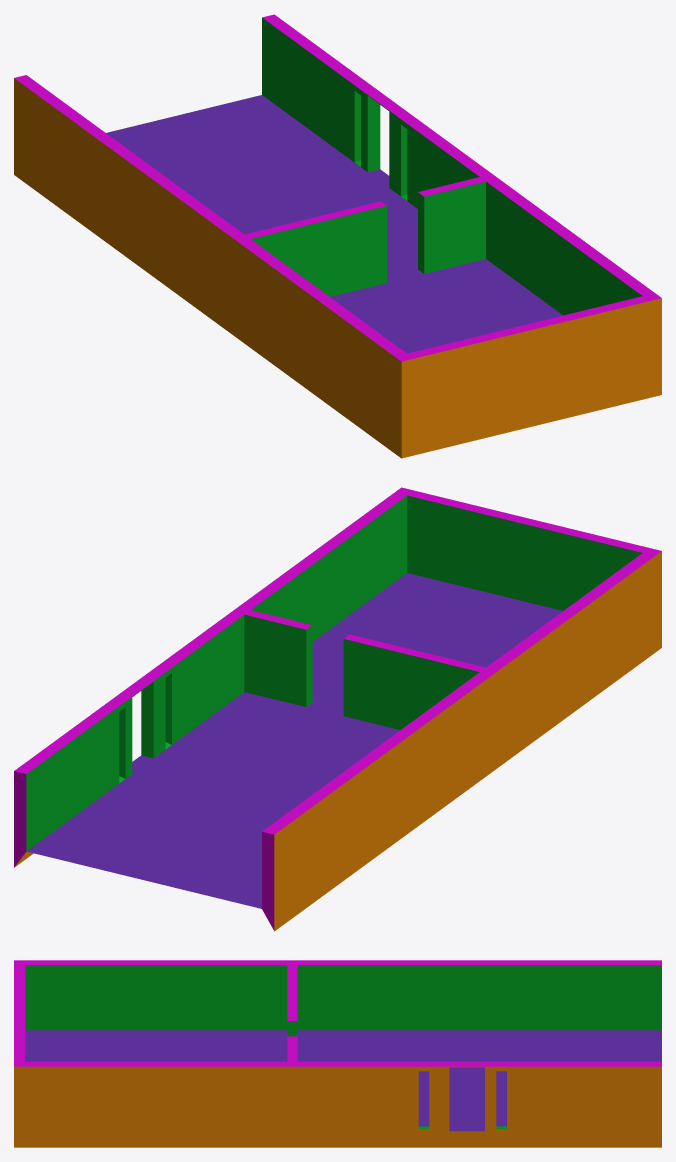
The model's file is Raum.fbx.
3 views of the same model, one above another, from view 1: azimuth 30°, elevation 25°; view 2: azimuth 150°, elevation 25°; view 3: azimuth 270°, elevation 25° (orthographic). The views are drawn at different scales.
Visible parts, largest first — view 1: Raum1:Raum1; view 2: Raum1:Raum1; view 3: Raum1:Raum1.
Boxes of the visible parts, x1,y1,x2,y2 form: Raum1:Raum1: (14, 14, 661, 458); Raum1:Raum1: (14, 487, 661, 931); Raum1:Raum1: (14, 960, 661, 1147).
Size of the model in its own units: 700 by 249 by 1804.
